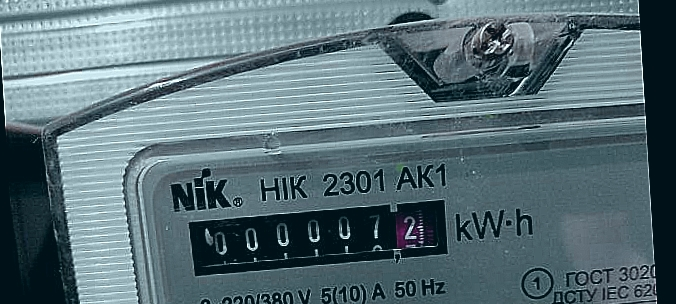0: (209, 227, 228, 255), (303, 216, 322, 244), (272, 219, 290, 248), (241, 223, 259, 251), (335, 213, 351, 242)
2: (400, 214, 418, 241)
7: (366, 210, 382, 241)
screen: (175, 192, 459, 281)
